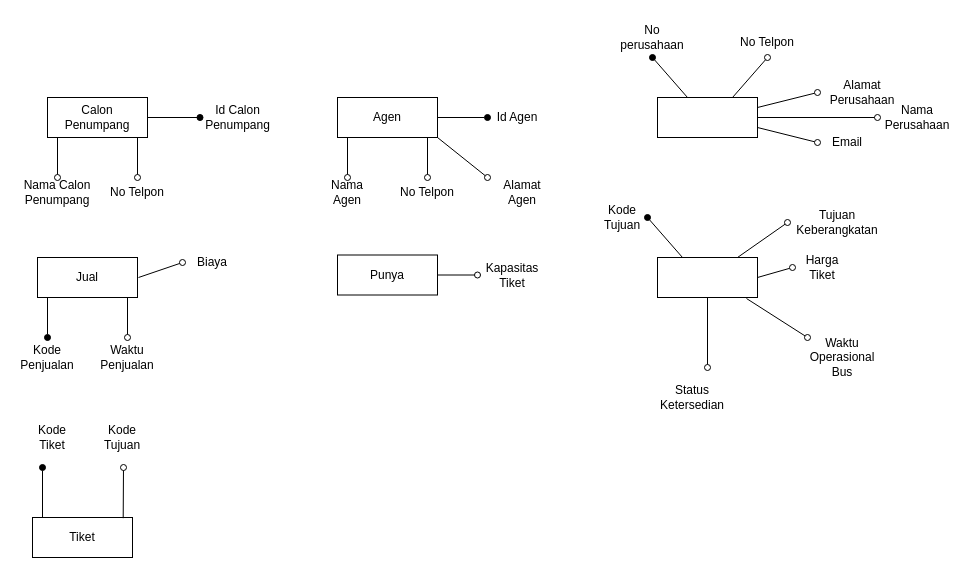
This 974x575 diagram has some shape labels left out. The shapes that lost their labels are listed below. From the top down, each one's box as (x1, y1, x2, y2) in pixels, then its label:
(656, 96, 758, 138): Kantor Pusat
(656, 256, 758, 298): Tiket Tujuan
